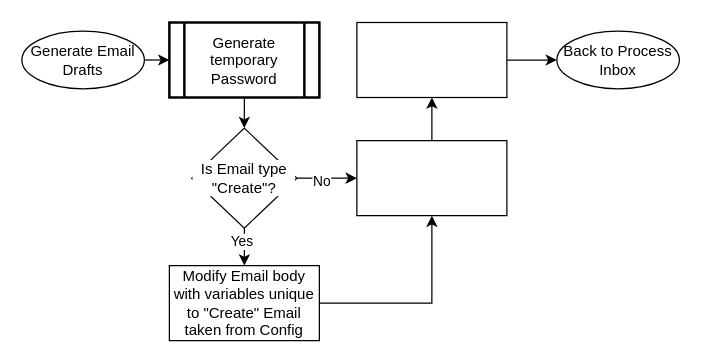
Some shapes in this 701 by 363 pixel diagram are drawn without their labels. Each missing label, with the centre of its shape:
Generate email Draft: (431,59)
Modify Email body with variables taken from Config: (431,177)
